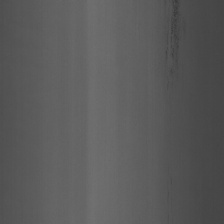inclusion: (157, 0, 185, 87)
